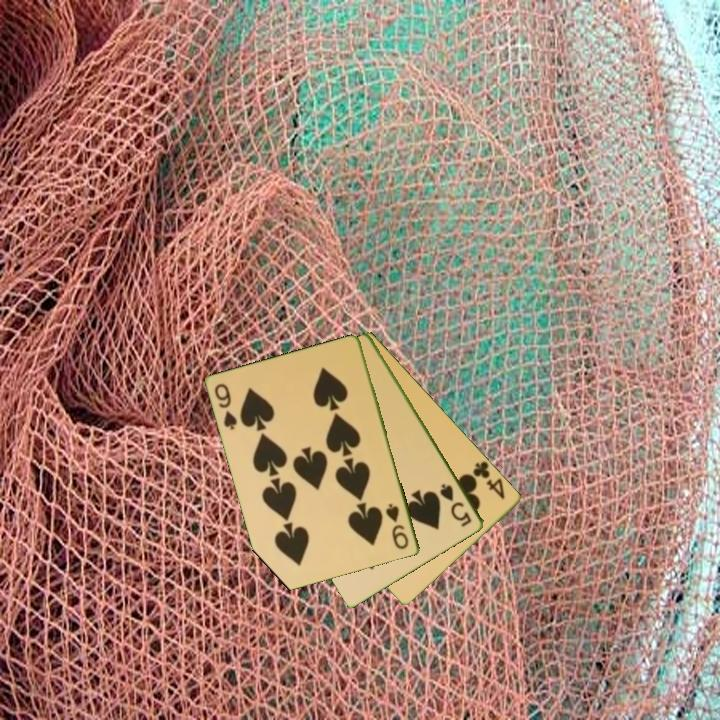4c: (469, 457, 508, 502)
5s: (436, 480, 475, 530)
9s: (211, 380, 241, 433), (382, 500, 412, 552)
